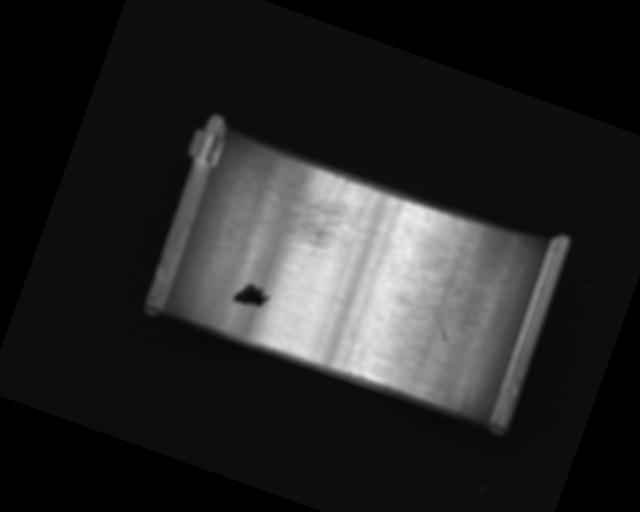blot: (231, 278, 274, 314)
nick: (408, 276, 467, 343)
scratch: (237, 145, 375, 268)
